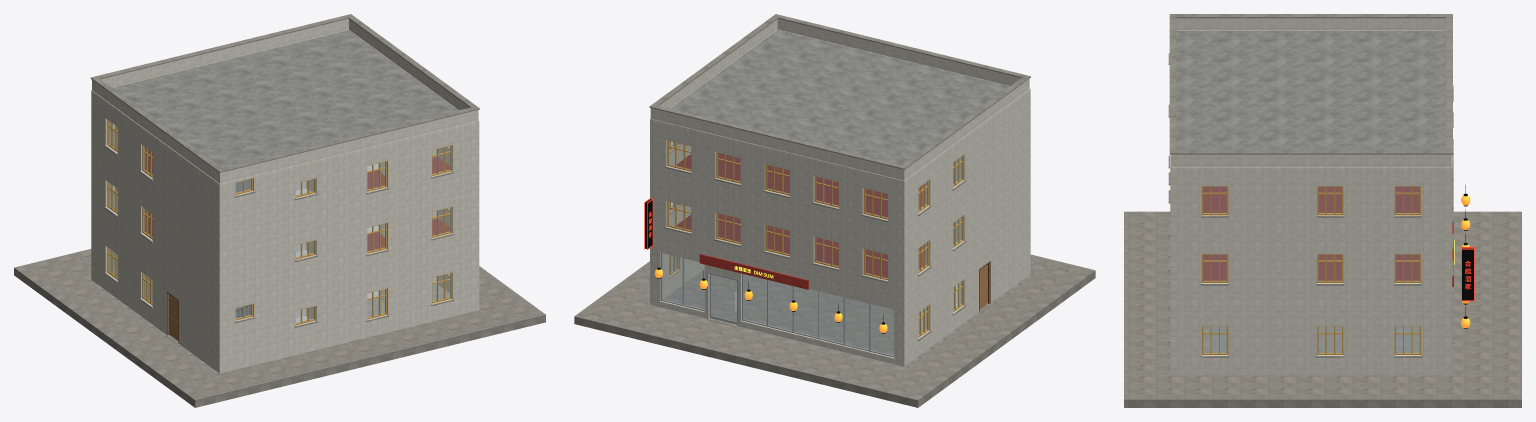
File: b_hk_dimsum_hall.gltf
The picture shows the model from 3 angles, left to right: view 1: azimuth 30°, elevation 25°; view 2: azimuth 150°, elevation 25°; view 3: azimuth 270°, elevation 25°; orthographic projection. The views are drawn at different scales.
Parts seen in each view (by area): view 1: S_hk_dimsum_hall; view 2: S_hk_dimsum_hall, D_hk_dimsum_hall_F1_S2_Door0; view 3: S_hk_dimsum_hall.
Boxes of the visible parts, bbox=[...] form: S_hk_dimsum_hall: bbox=[14, 14, 545, 407]; S_hk_dimsum_hall: bbox=[574, 14, 1095, 407]; D_hk_dimsum_hall_F1_S2_Door0: bbox=[709, 274, 737, 324]; S_hk_dimsum_hall: bbox=[1124, 14, 1521, 407].
Size of the model in its own units: 19 by 10.86 by 17.
Materials: 21 (10 with a texture image).
